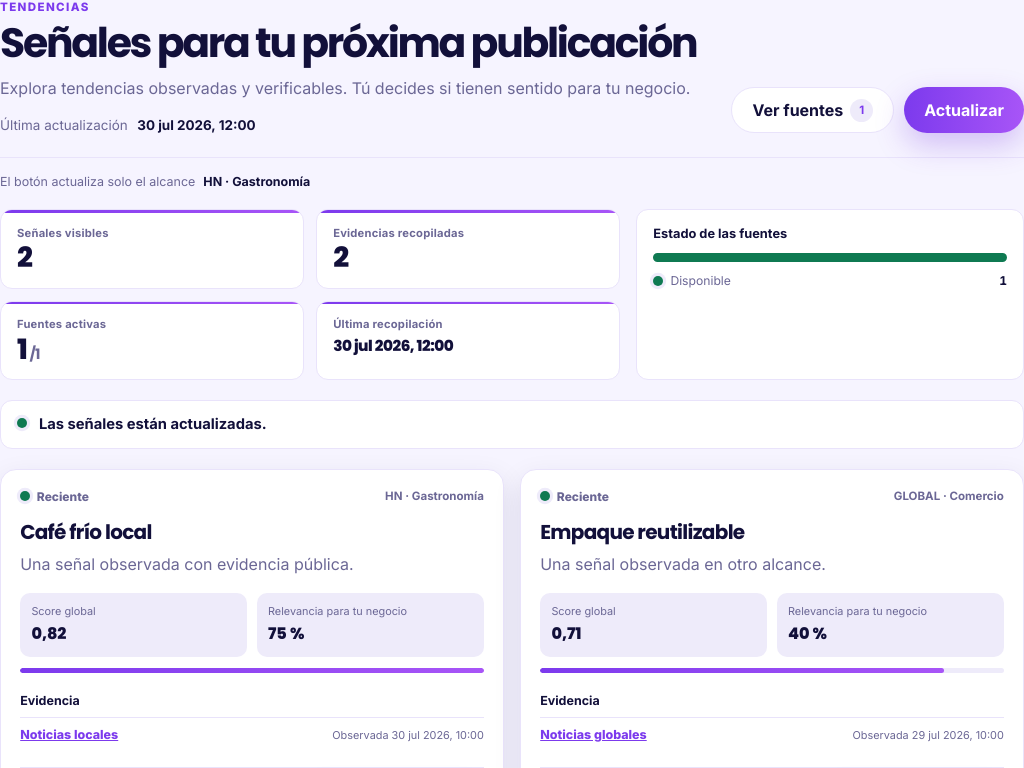
Test: Trends Home › refreshes explicitly and reloads Home
Click the button "Actualizar": (964, 110) x1=904 y1=87 x2=1023 y2=133
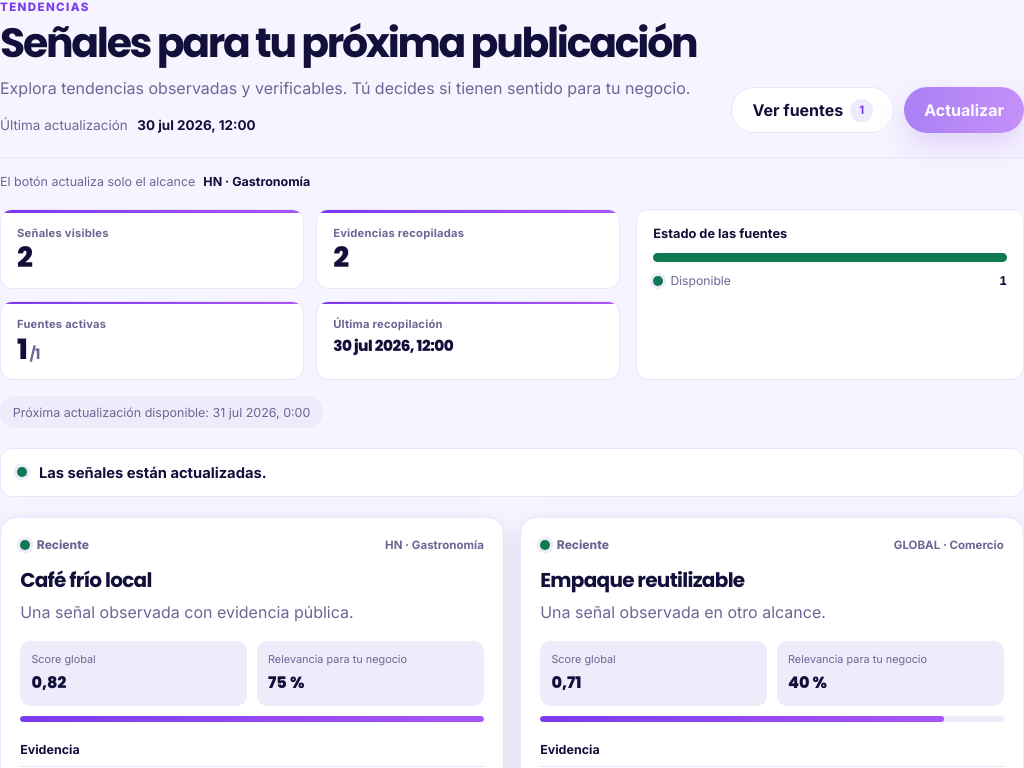
Now the text "Próxima actualización disponible: 31 jul 2026, 0:00" is shown, box x1=0 y1=396 x2=323 y2=428
